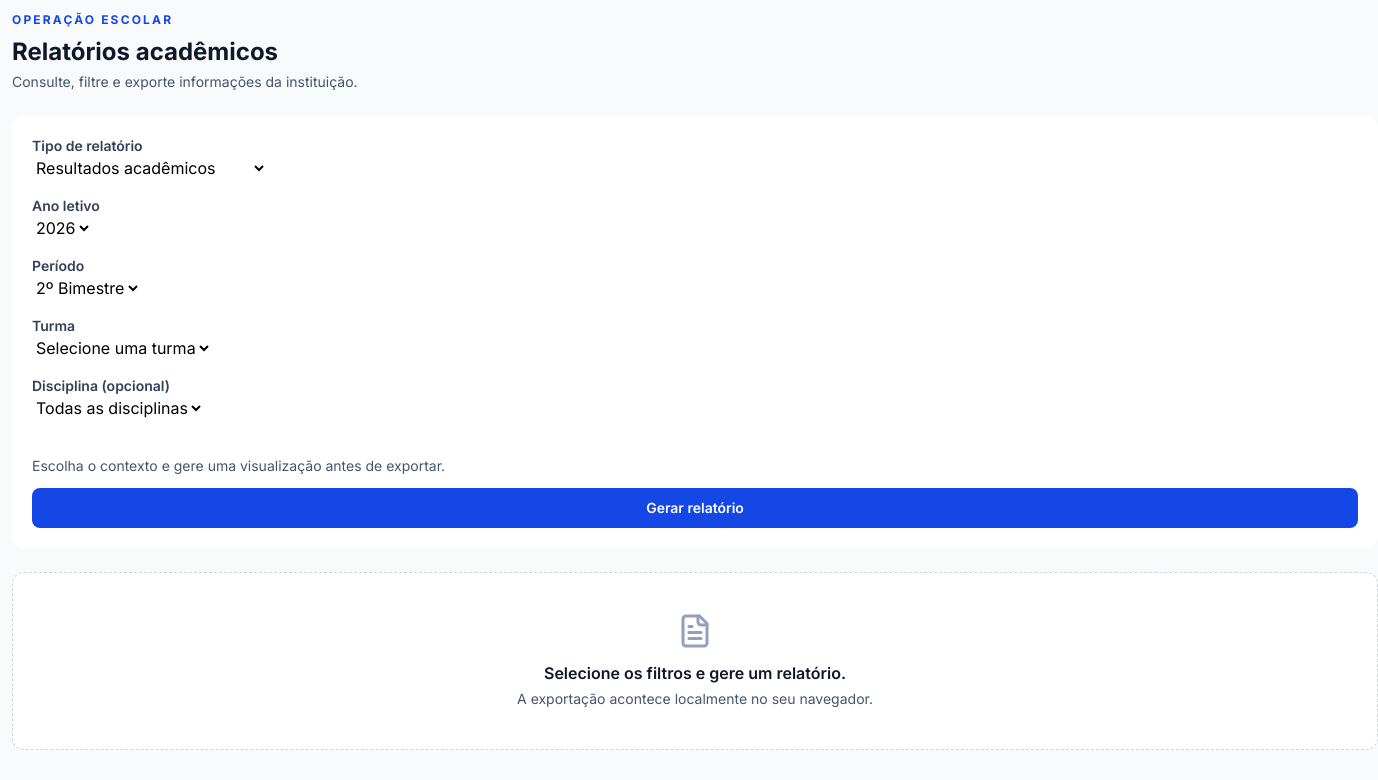
Scenario: AcademicReportsTab › gera o relatório de documentos pendentes por ano, sem exigir turma ou período
Select "Documentos pendentes" in the dropdown labelled "Tipo de relatório" at [150, 168], box [32,157,267,179]
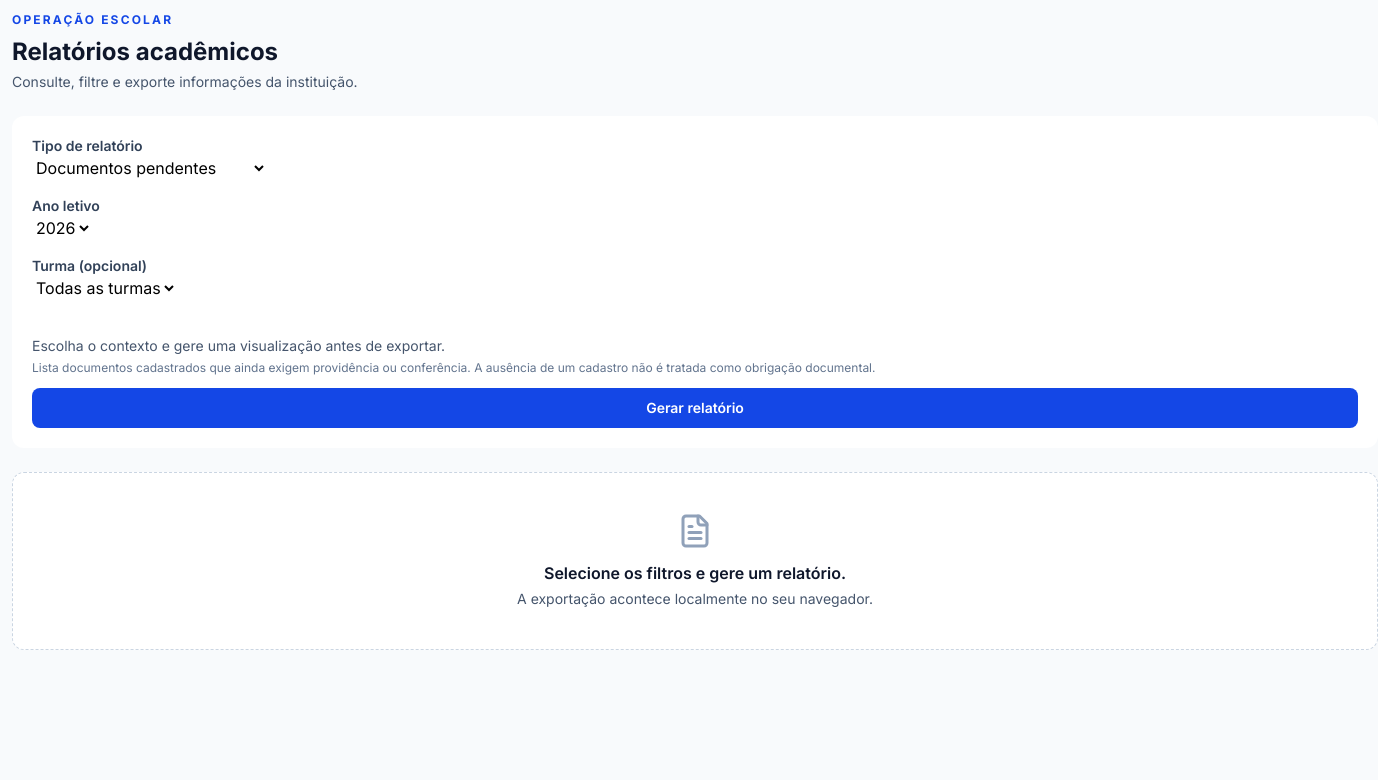
Check: the label labelled "Período" is gone
Check: the button "Gerar relatório" is enabled
Check: the text "A ausência de um cadastro não é tratada como obrigação documental" is shown, box [32,360,876,375]
Click the button "Gerar relatório".
click(695, 408)  # box [32,388,1358,428]
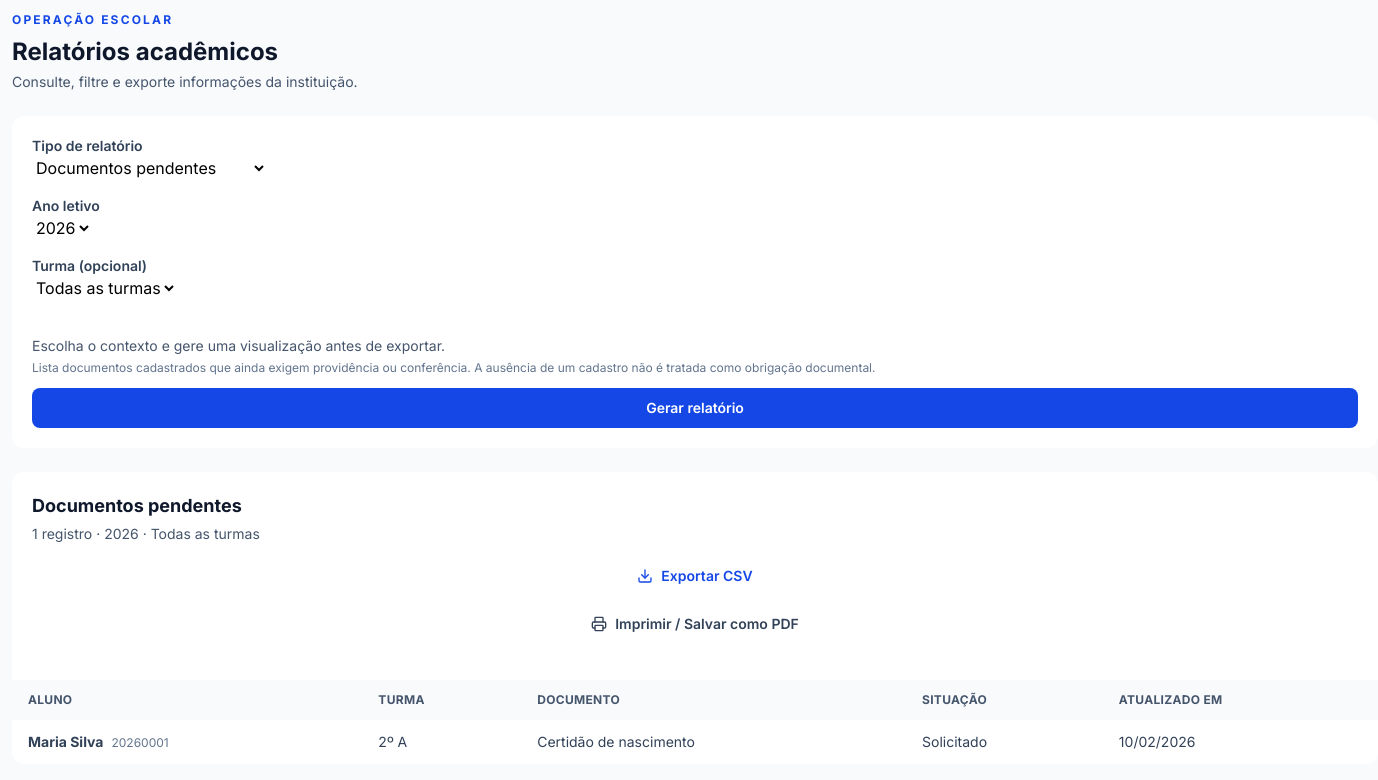
Check: the text "Certidão de nascimento" is shown, box [521,720,906,764]
Check: the text "Solicitado" is shown, box [906,720,1103,764]
